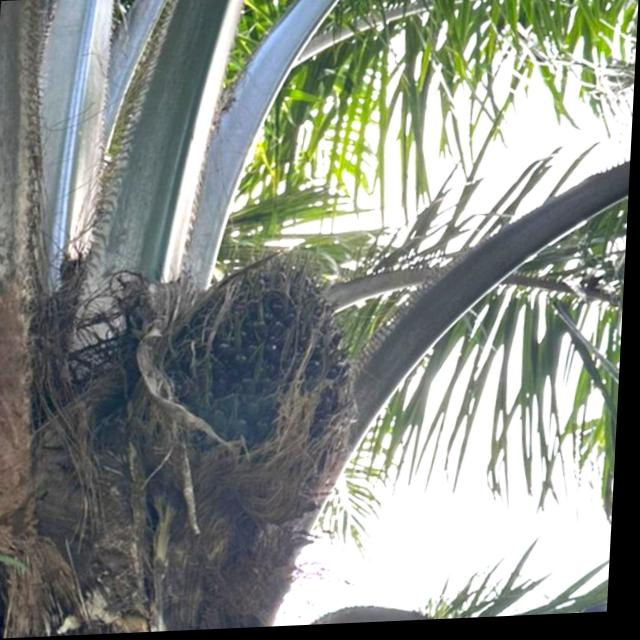almost: (151, 238, 366, 475)
